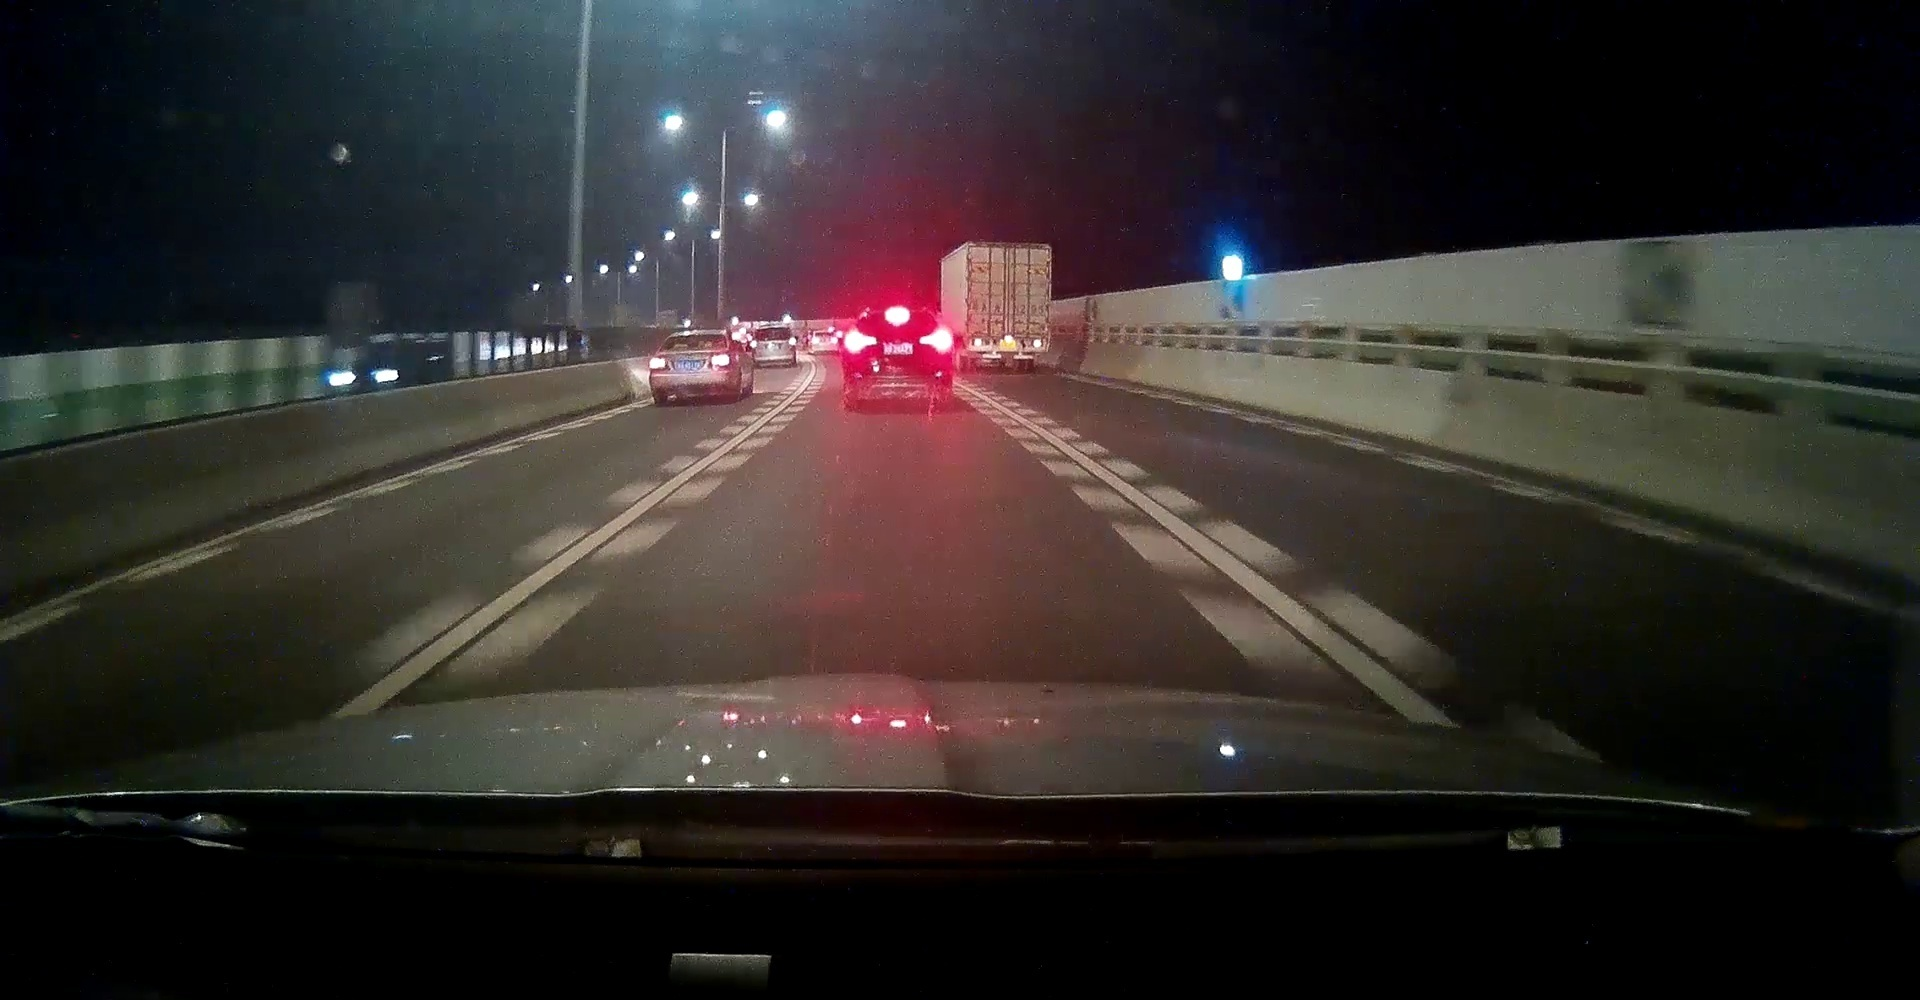L_light: (844, 334, 877, 354), (969, 339, 993, 348), (650, 358, 667, 371), (750, 341, 758, 348)
R_light: (919, 330, 952, 352), (711, 354, 729, 367), (1023, 339, 1046, 348), (789, 338, 796, 346)
T_light: (884, 311, 909, 320), (998, 246, 1018, 253), (686, 335, 700, 340), (770, 327, 777, 330)
night-brake: (844, 305, 954, 404)
night-no: (966, 242, 1051, 373), (649, 330, 731, 404), (750, 324, 796, 367)
